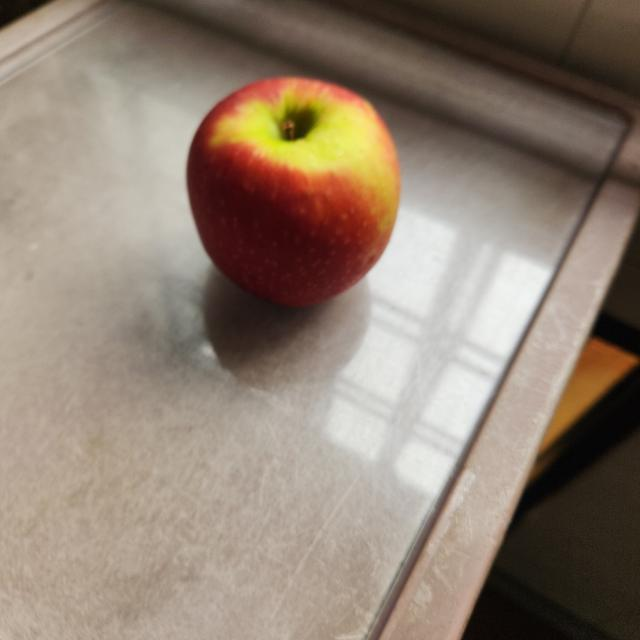apple: (180, 72, 409, 316)
